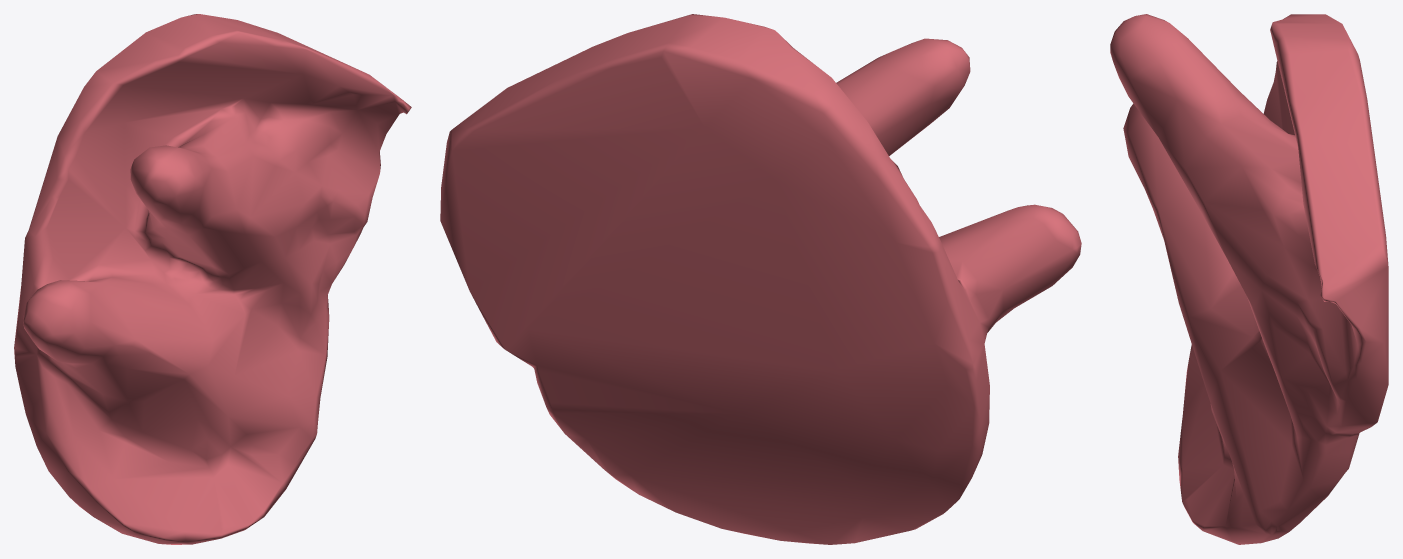
3 views of the same model, side by side, from view 1: azimuth 30°, elevation 25°; view 2: azimuth 150°, elevation 25°; view 3: azimuth 270°, elevation 25° (orthographic). The views are drawn at different scales.
Parts seen in each view (by area): view 1: 右心室后乳头肌; view 2: 右心室后乳头肌; view 3: 右心室后乳头肌.
Part boxes in pixels (x1,y1,x2,y2): 右心室后乳头肌: (14, 14, 411, 544); 右心室后乳头肌: (440, 14, 1081, 544); 右心室后乳头肌: (1110, 14, 1388, 544).
Size of the model in its own units: 0.0451 by 0.0436 by 0.0219.
